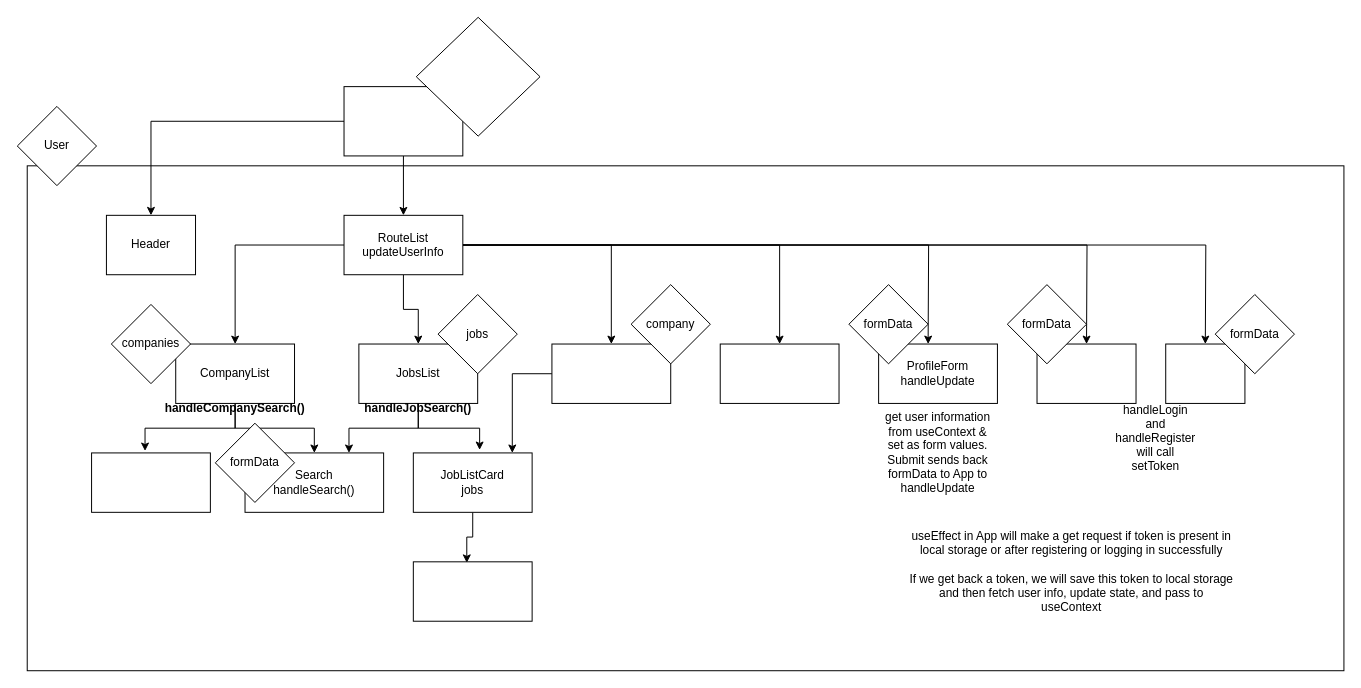
Image size: 1361x688. Some labels were removed from this diagram. The centre of each missing label's shape, as x and y in pixels:
App setToken () handleRegister() handleLogin() handleUpdate(): the point at 403,121
CompanyCard handle, title, description, logo, key: the point at 150,482
CompanyDetail: the point at 611,373
HomePage: the point at 779,373
JobCard id, title, salary, key, company, equity: the point at 472,591
LoginForm handleLogin: the point at 1205,373
RegisterForm handleRegister: the point at 1086,373
userInfo username, firstName, lastName, email: the point at 477,76
